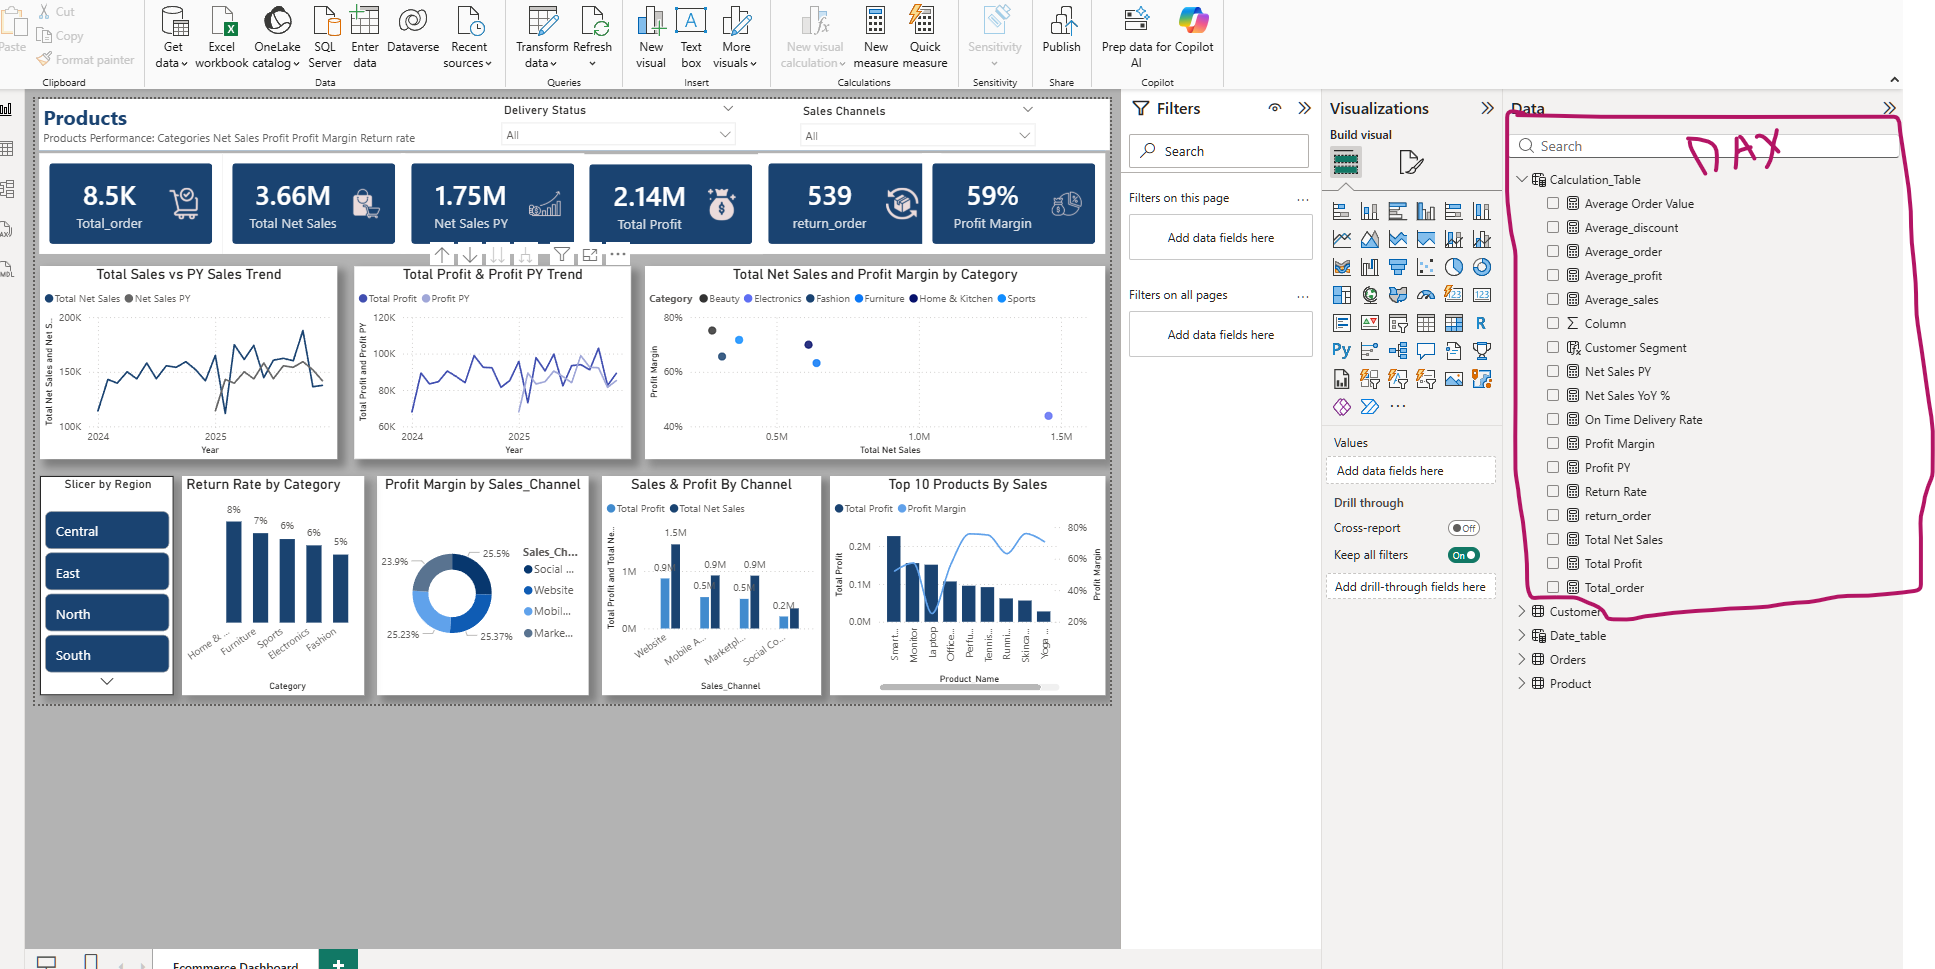

This screenshot's page, from the dashboard's own definition file:
{"tool":"powerbi","page":{"name":"Ecommerce Dashboard","canvas":[1280,720],"ordinal":0},"visuals":[{"type":"shape","box":[4.9,0,1270.3,61.3],"z":0},{"type":"cardVisual","fields":{"Data":["Calculation_Table.Total_order"]},"box":[0,59.6,228.6,130.3],"z":0,"group":"g1"},{"type":"textbox","box":[4.9,0,1275.1,61.3],"z":1000},{"type":"cardVisual","fields":{"Data":["Calculation_Table.Total Net Sales"]},"box":[217.6,59.9,228.6,130.3],"z":1000,"group":"g1"},{"type":"group","id":"g1","title":"Group 1","box":[0,59.6,1280,131.2],"z":2000},{"type":"cardVisual","fields":{"Data":["Calculation_Table.Total Profit"]},"box":[642.9,61.3,228.6,129.4],"z":2000,"group":"g1"},{"type":"cardVisual","fields":{"Data":["Calculation_Table.Net Sales PY"]},"box":[430.6,59.9,228.6,130.3],"z":3000,"group":"g1"},{"type":"lineChart","title":"Total Sales vs PY Sales Trend","fields":{"Y":["Calculation_Table.Total Net Sales","Calculation_Table.Net Sales PY"],"Category":["Date_table.Date.Variation.Date Hierarchy.Year","Date_table.Date.Variation.Date Hierarchy.Month"]},"box":[5.5,198.4,354.3,230.1],"z":3000},{"type":"cardVisual","fields":{"Data":["Calculation_Table.return_order"]},"box":[855.6,59.9,228.6,130.3],"z":4000,"group":"g1"},{"type":"lineChart","title":"Total Profit &  Profit PY Trend","fields":{"Category":["Date_table.Date.Variation.Date Hierarchy.Year","Date_table.Date.Variation.Date Hierarchy.Month"],"Y":["Calculation_Table.Total Profit","Calculation_Table.Profit PY"]},"box":[379.4,198.4,330.4,230.1],"z":4000},{"type":"cardVisual","fields":{"Data":["Calculation_Table.Profit Margin"]},"box":[1051.1,59.9,228.6,130.3],"z":5000,"group":"g1"},{"type":"scatterChart","fields":{"X":["Calculation_Table.Total Net Sales"],"Y":["Calculation_Table.Profit Margin"],"Series":["Orders.Category"]},"box":[726.1,198.4,548.4,230.1],"z":5000},{"type":"donutChart","fields":{"Category":["Orders.Sales_Channel"],"Y":["Calculation_Table.Profit Margin"]},"box":[406.7,449.2,251.9,260.6],"z":6000},{"type":"clusteredColumnChart","title":"Sales & Profit By Channel","fields":{"Category":["Orders.Sales_Channel"],"Y":["Calculation_Table.Total Profit","Calculation_Table.Total Net Sales"]},"box":[674.9,449.2,260.6,260.6],"z":7000},{"type":"lineClusteredColumnComboChart","title":"Top 10 Products By Sales","fields":{"Category":["Product.Product_Name"],"Y":["Calculation_Table.Total Profit"],"Y2":["Calculation_Table.Profit Margin"]},"box":[946.4,449.2,328.2,260.6],"z":8000},{"type":"advancedSlicerVisual","title":"Slicer by Region","fields":{"Values":["Customer.Region"]},"box":[5.5,449.2,159.2,260.6],"z":9000},{"type":"lineStackedColumnComboChart","fields":{"Category":["Orders.Category"],"Y":["Calculation_Table.Return Rate"]},"box":[175.5,449.2,217,260.6],"z":10000},{"type":"slicer","fields":{"Values":["Orders.Delivery_Status"]},"box":[545.2,0,299.3,60.2],"z":11000},{"type":"slicer","fields":{"Values":["Orders.Sales_Channel"]},"box":[901.1,1.1,300,59.8],"z":12000}]}

Visuals, with their boxes on the page's 1280x720 design canvas (x1, y1, x2, y2). These are canvas units, not pixel positions in the 1935x969 screenshot, which may show the page scaled, cropped or inside an application window:
shape: rect(5, 0, 1275, 61)
cardVisual - Calculation_Table.Total_order: rect(0, 60, 229, 190)
textbox: rect(5, 0, 1280, 61)
cardVisual - Calculation_Table.Total Net Sales: rect(218, 60, 446, 190)
"Group 1" group: rect(0, 60, 1280, 191)
cardVisual - Calculation_Table.Total Profit: rect(643, 61, 872, 191)
cardVisual - Calculation_Table.Net Sales PY: rect(431, 60, 659, 190)
"Total Sales vs PY Sales Trend" lineChart: rect(6, 198, 360, 428)
cardVisual - Calculation_Table.return_order: rect(856, 60, 1084, 190)
"Total Profit &  Profit PY Trend" lineChart: rect(379, 198, 710, 428)
cardVisual - Calculation_Table.Profit Margin: rect(1051, 60, 1280, 190)
scatterChart - Calculation_Table.Total Net Sales x Calculation_Table.Profit Margin: rect(726, 198, 1274, 428)
donutChart - Orders.Sales_Channel x Calculation_Table.Profit Margin: rect(407, 449, 659, 710)
"Sales & Profit By Channel" clusteredColumnChart: rect(675, 449, 936, 710)
"Top 10 Products By Sales" lineClusteredColumnComboChart: rect(946, 449, 1275, 710)
"Slicer by Region" advancedSlicerVisual: rect(6, 449, 165, 710)
lineStackedColumnComboChart - Orders.Category x Calculation_Table.Return Rate: rect(176, 449, 392, 710)
slicer - Orders.Delivery_Status: rect(545, 0, 844, 60)
slicer - Orders.Sales_Channel: rect(901, 1, 1201, 61)
